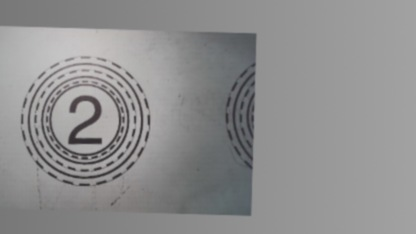2r: (15, 53, 153, 190)
